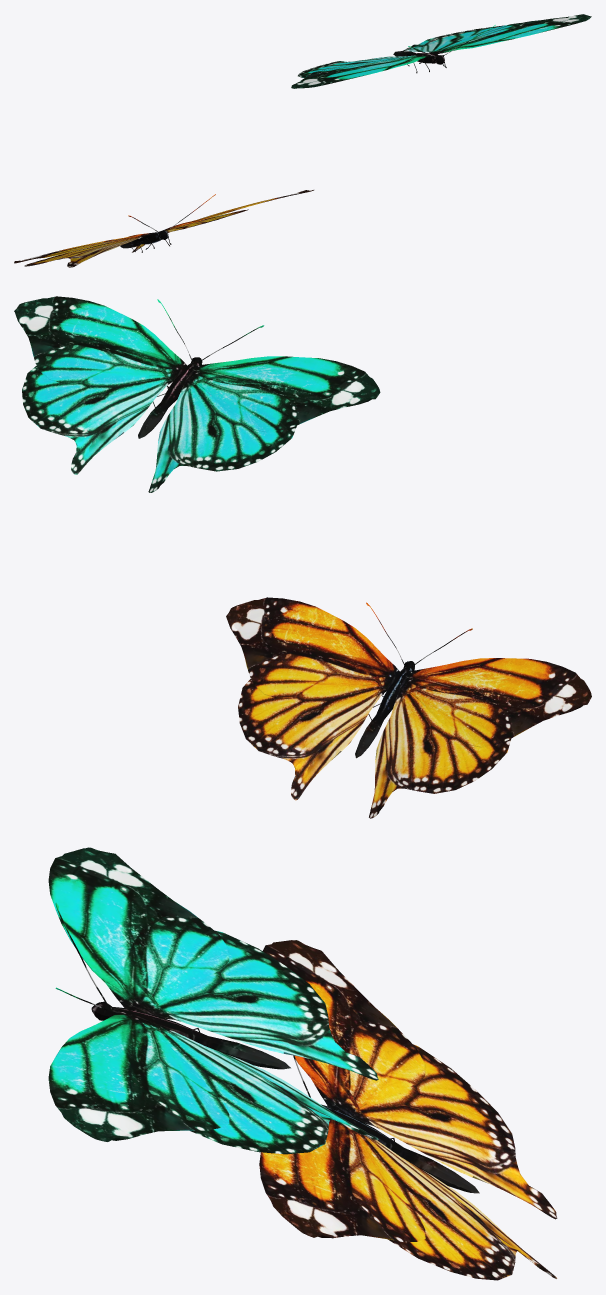
File: butterflies-transformed.glb
The picture shows the model from 3 angles, top to bottom: view 1: azimuth 30°, elevation 25°; view 2: azimuth 150°, elevation 25°; view 3: azimuth 270°, elevation 25°; orthographic projection. The views are drawn at different scales.
Visible parts, largest first — view 1: pasted__Wings_Top1_Wings_Top1, pasted__Wings_Side1_Wings_Side1, Wings_Side1_Wings_Side1, Wings_Top1_Wings_Top1, Body, pasted__Body; view 2: Wings_Top1_Wings_Top1, pasted__Wings_Top1_Wings_Top1, Wings_Side1_Wings_Side1, pasted__Wings_Side1_Wings_Side1, Body, pasted__Body; view 3: pasted__Wings_Top1_Wings_Top1, Wings_Top1_Wings_Top1, pasted__Wings_Side1_Wings_Side1, Wings_Side1_Wings_Side1, pasted__Body, Body.
Part boxes in pixels (bbox=[...]): pasted__Wings_Top1_Wings_Top1: bbox=[291, 14, 591, 88]; pasted__Wings_Side1_Wings_Side1: bbox=[298, 25, 504, 77]; Wings_Side1_Wings_Side1: bbox=[24, 209, 248, 267]; Wings_Top1_Wings_Top1: bbox=[14, 190, 313, 263]; Body: bbox=[120, 194, 215, 252]; pasted__Body: bbox=[393, 25, 495, 73]; Wings_Top1_Wings_Top1: bbox=[226, 597, 591, 747]; pasted__Wings_Top1_Wings_Top1: bbox=[14, 296, 380, 432]; Wings_Side1_Wings_Side1: bbox=[238, 679, 510, 818]; pasted__Wings_Side1_Wings_Side1: bbox=[22, 365, 296, 492]; Body: bbox=[355, 602, 472, 758]; pasted__Body: bbox=[138, 299, 264, 438]; pasted__Wings_Top1_Wings_Top1: bbox=[48, 847, 229, 1141]; Wings_Top1_Wings_Top1: bbox=[259, 940, 425, 1242]; pasted__Wings_Side1_Wings_Side1: bbox=[139, 930, 378, 1154]; Wings_Side1_Wings_Side1: bbox=[343, 1044, 557, 1280]; pasted__Body: bbox=[55, 902, 290, 1069]; Body: bbox=[293, 1055, 479, 1193].
Bounding box in the file's own units: 300 × 144 × 127.
Materials: 2 (2 with a texture image).
